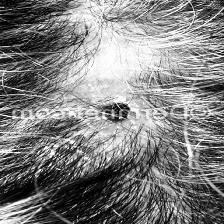Potentially Malignant Skin Tumors: (90, 92, 131, 136)
